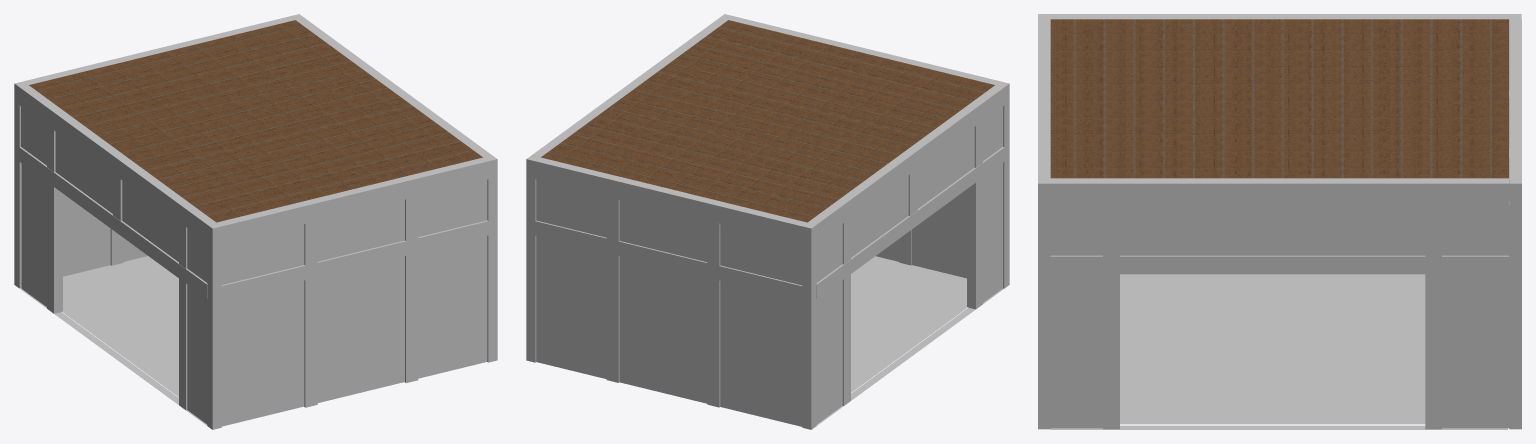
File: 精神世界の一部屋 始まり 前後.fbx
The picture shows the model from 3 angles, left to right: view 1: azimuth 30°, elevation 25°; view 2: azimuth 150°, elevation 25°; view 3: azimuth 270°, elevation 25°; orthographic projection. The views are drawn at different scales.
Parts seen in each view (by area): view 1: 平面.057, 立方体.015, 畳.002, 立方体.014, 平面.041, 平面.038, 平面.049, 立方体.023, 立方体.018, 平面.047, 平面.025, 立方体.022 (+9 smaller); view 2: 平面.057, 立方体.018, 畳.002, 立方体.014, 平面.036, 平面.038, 平面.046, 立方体.015, 立方体.023, 平面.047, 平面.024, 平面.052 (+9 smaller); view 3: 平面.057, 畳.002, 立方体.025, 立方体.021, 平面.040, 立方体.024, 平面.048, 平面.054, 平面.055, 平面.028, 平面.034, 平面.038 (+3 smaller).
Part boxes in pixels (x1,y1,x2,y2): 平面.057: [29, 20, 482, 222]; 立方体.015: [221, 179, 487, 426]; 畳.002: [62, 256, 178, 397]; 立方体.014: [21, 106, 207, 282]; 平面.041: [217, 157, 488, 244]; 平面.038: [19, 85, 215, 242]; 平面.049: [221, 220, 488, 300]; 立方体.023: [21, 163, 46, 306]; 立方体.018: [63, 194, 147, 276]; 平面.047: [19, 147, 207, 298]; 平面.025: [207, 222, 221, 429]; 立方体.022: [187, 285, 207, 424]; 平面.057: [541, 20, 994, 222]; 立方体.018: [536, 179, 802, 426]; 畳.002: [851, 256, 967, 392]; 立方体.014: [816, 106, 1002, 282]; 平面.036: [535, 157, 806, 244]; 平面.038: [808, 85, 1004, 242]; 平面.046: [535, 220, 802, 300]; 立方体.015: [876, 189, 966, 278]; 立方体.023: [816, 280, 842, 424]; 平面.047: [816, 147, 1004, 298]; 平面.024: [802, 222, 816, 429]; 平面.052: [707, 221, 720, 407]; 平面.057: [1050, 19, 1508, 178]; 畳.002: [1120, 274, 1425, 424]; 立方体.025: [1120, 205, 1425, 255]; 立方体.021: [1442, 201, 1509, 428]; 平面.040: [1050, 178, 1508, 205]; 立方体.024: [1050, 205, 1102, 428]; 平面.048: [1050, 255, 1508, 274]; 平面.054: [1103, 205, 1119, 429]; 平面.055: [1425, 205, 1441, 429]; 平面.028: [1038, 178, 1050, 429]; 平面.034: [1509, 178, 1521, 429]; 平面.038: [1050, 14, 1508, 19].
Size of the model in its own units: 473 by 320 by 570.
